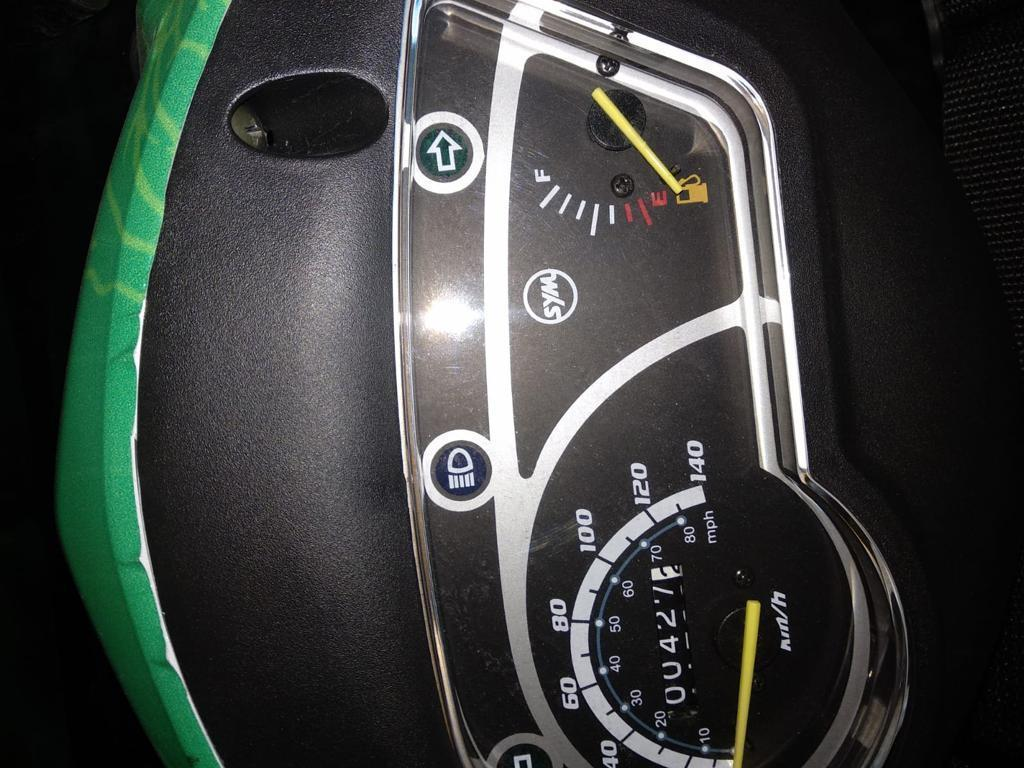0: (658, 659, 685, 681), (663, 684, 687, 706)
2: (653, 609, 677, 630), (658, 563, 683, 577)
4: (657, 634, 680, 655)
7: (650, 584, 677, 605)
odometer: (646, 562, 699, 709)
